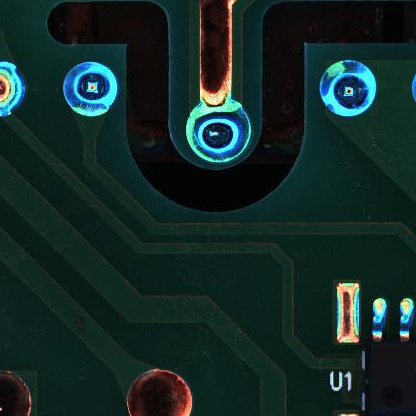spot: (183, 100, 251, 166), (60, 59, 118, 119), (317, 60, 376, 118)
